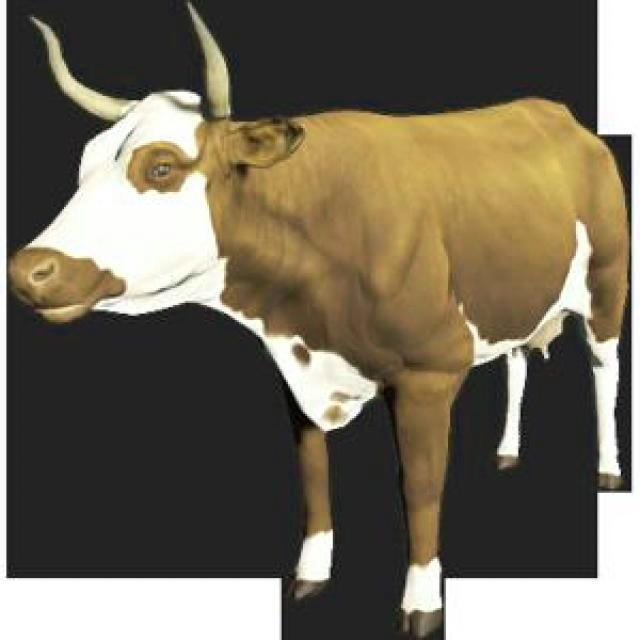cow: (9, 4, 628, 636)
